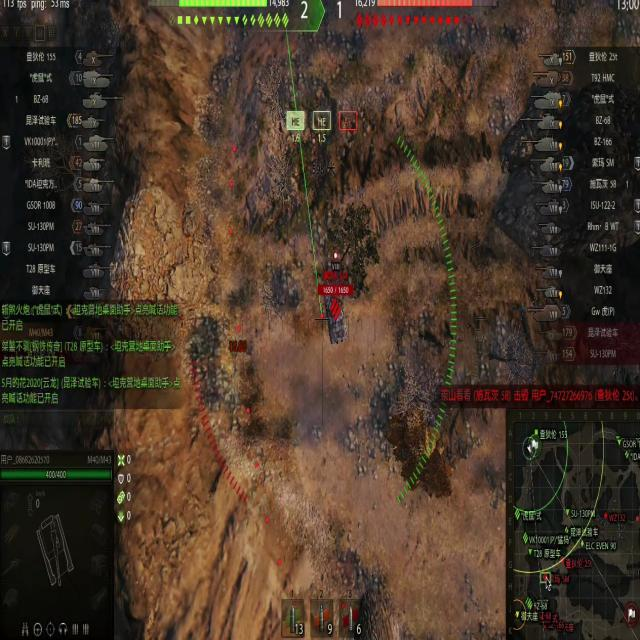tank: (317, 278, 349, 352)
